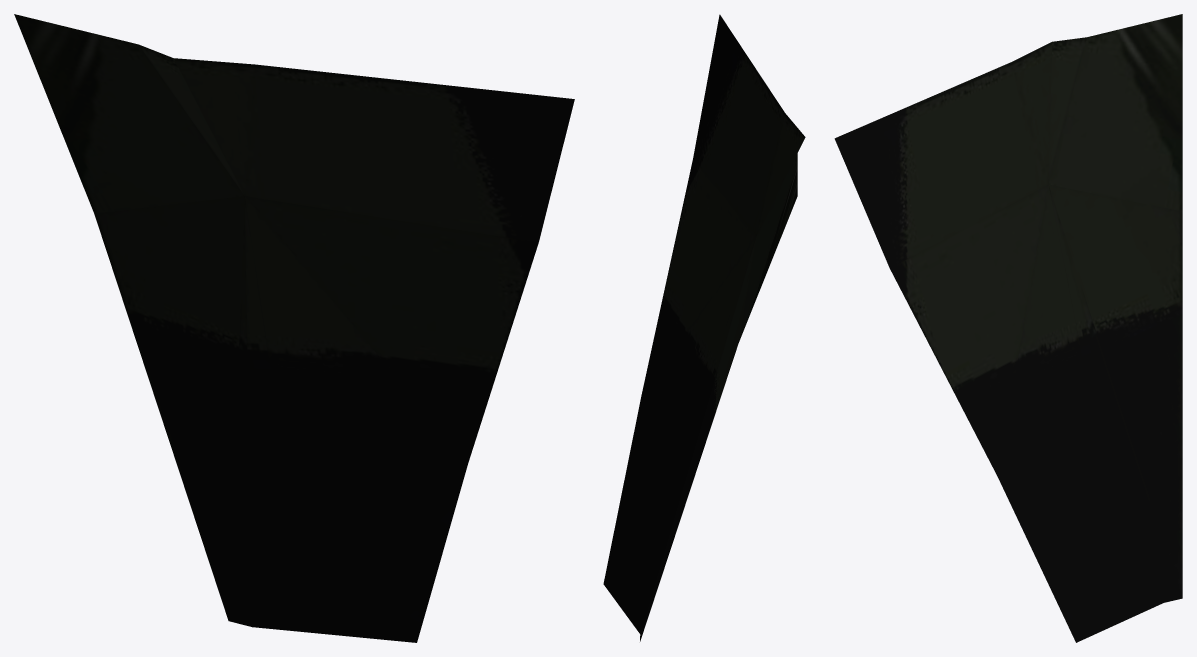
3 views of the same model, side by side, from view 1: azimuth 30°, elevation 25°; view 2: azimuth 150°, elevation 25°; view 3: azimuth 270°, elevation 25° (orthographic). The views are drawn at different scales.
Size of the model in its own units: 0.886 by 1.67 by 1.05.
Materials: 2 (2 with a texture image).
